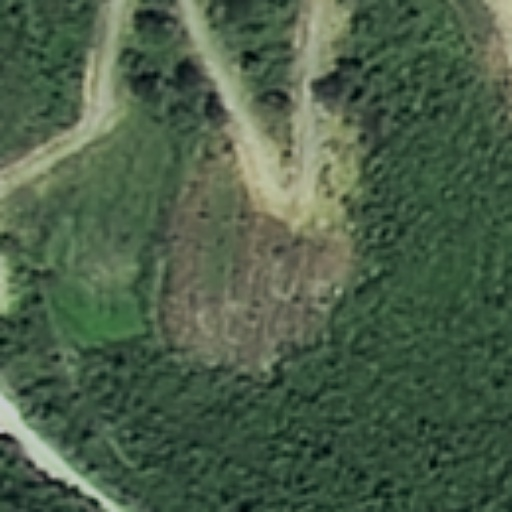landslide: (173, 168, 368, 360)
